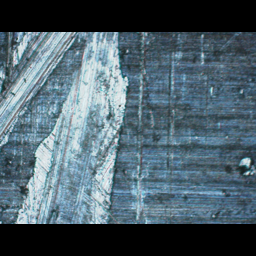d: (0, 32, 134, 223), (225, 153, 255, 180)
